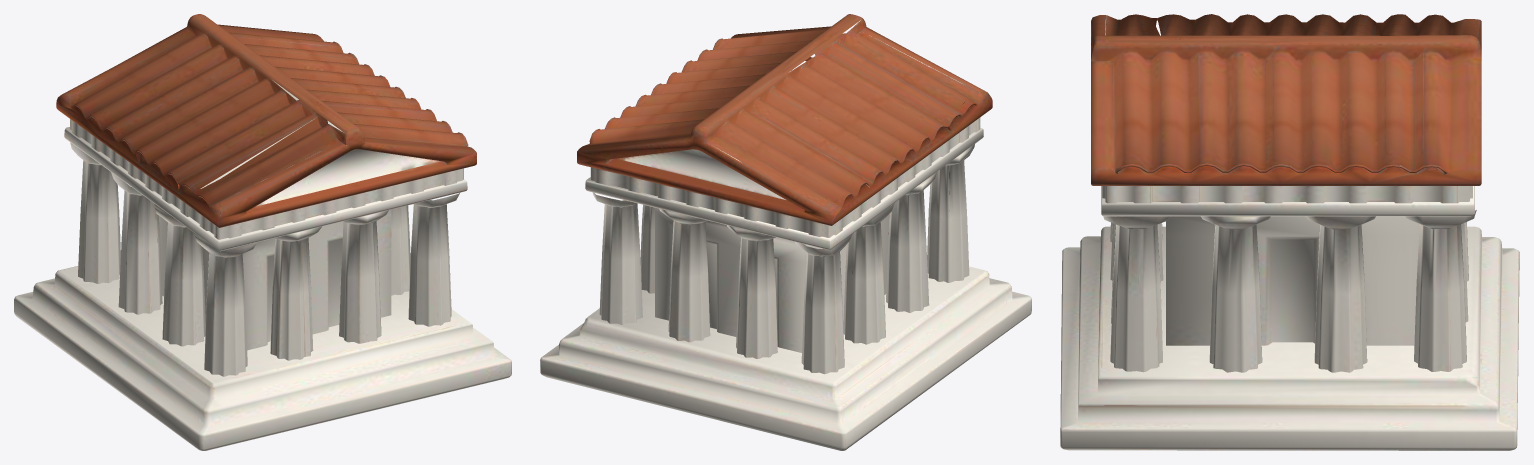
File: towncenter.glb
3 views of the same model, side by side, from view 1: azimuth 30°, elevation 25°; view 2: azimuth 150°, elevation 25°; view 3: azimuth 270°, elevation 25° (orthographic). The views are drawn at different scales.
Parts seen in each view (by area): view 1: tripo_node_2fce0433-7d92-41a8-bb4a-9e9b1d7fca0e; view 2: tripo_node_2fce0433-7d92-41a8-bb4a-9e9b1d7fca0e; view 3: tripo_node_2fce0433-7d92-41a8-bb4a-9e9b1d7fca0e.
Part boxes in pixels (<box>): tripo_node_2fce0433-7d92-41a8-bb4a-9e9b1d7fca0e: <box>14,14,511,450</box>; tripo_node_2fce0433-7d92-41a8-bb4a-9e9b1d7fca0e: <box>540,14,1031,450</box>; tripo_node_2fce0433-7d92-41a8-bb4a-9e9b1d7fca0e: <box>1060,14,1519,450</box>.
Bounding box in the file's own units: 0.9429 × 0.7954 × 0.9995.
1 material, 1 textured.
